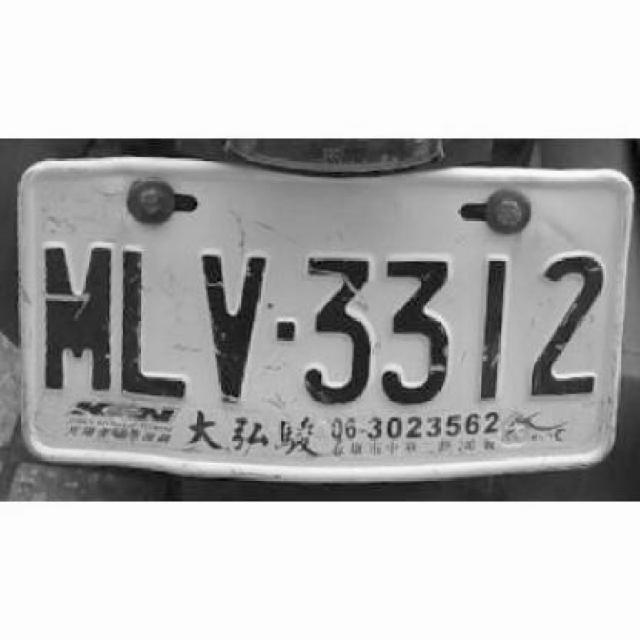-: (274, 317, 295, 343)
1: (472, 248, 512, 404)
2: (532, 252, 606, 398)
3: (303, 255, 372, 408), (382, 257, 451, 406)
L: (121, 246, 188, 400)
M: (42, 243, 112, 392)
V: (200, 251, 269, 403)
